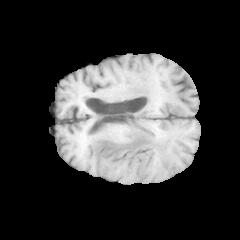glioma: (88, 122, 171, 170)
